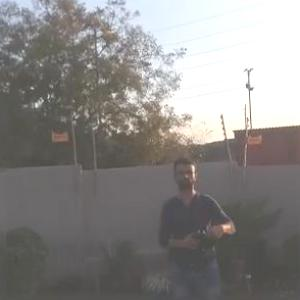follow: (155, 150, 242, 299)
